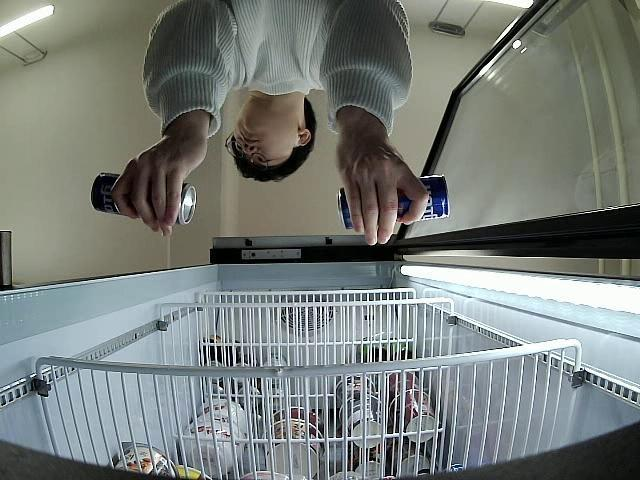16_hot6: (338, 174, 452, 227), (90, 173, 197, 228)
